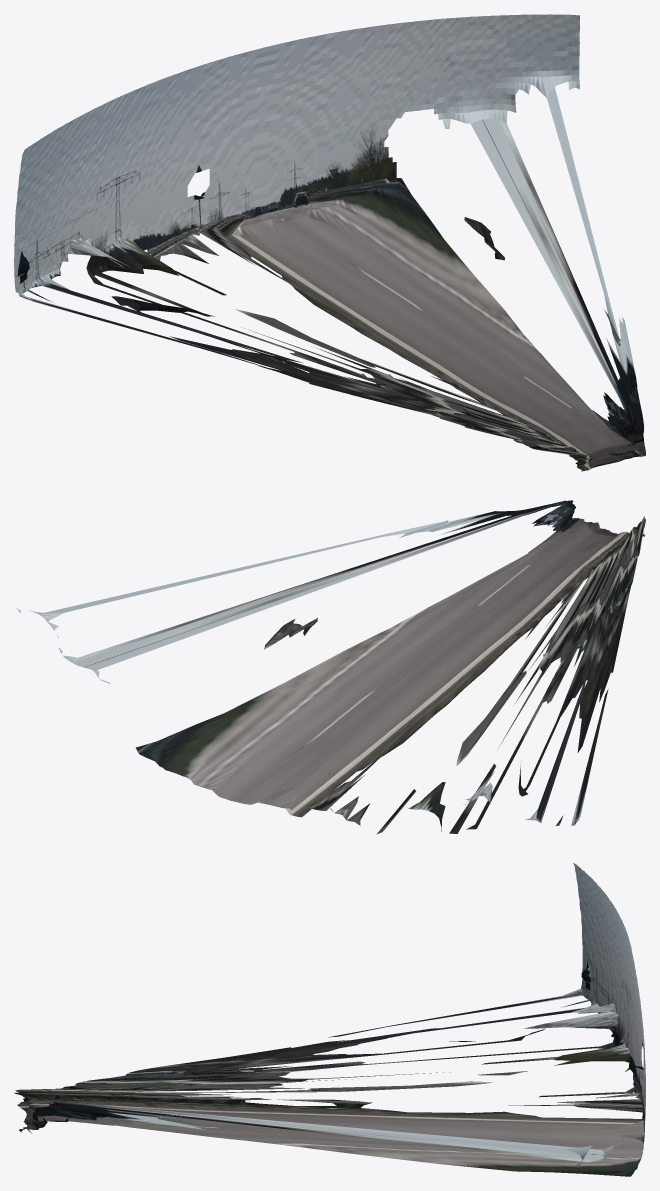
The picture shows the model from 3 angles, top to bottom: view 1: azimuth 30°, elevation 25°; view 2: azimuth 150°, elevation 25°; view 3: azimuth 270°, elevation 25°; orthographic projection. The views are drawn at different scales.
Visible parts, largest first — view 1: defaultobject; view 2: defaultobject; view 3: defaultobject.
Boxes of the visible parts, bbox=[...] form: defaultobject: bbox=[14, 14, 645, 471]; defaultobject: bbox=[16, 500, 645, 834]; defaultobject: bbox=[14, 863, 645, 1176].
Size of the model in its own units: 41.05 by 13.17 by 44.97.
Materials: 1 (1 with a texture image).
